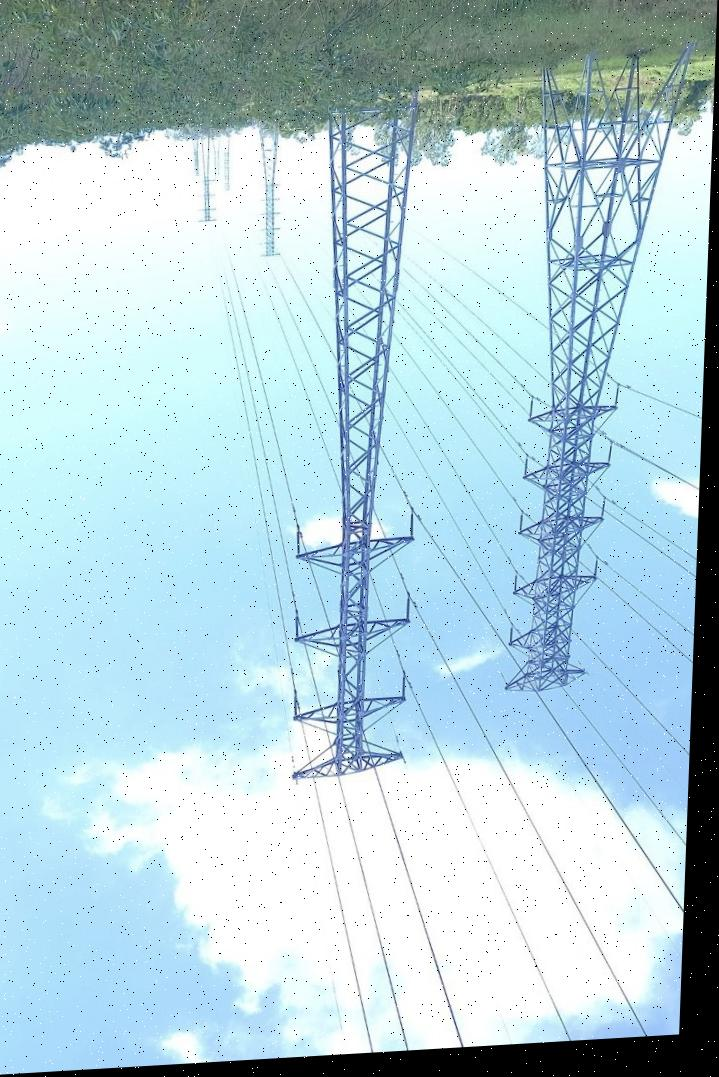tower: (511, 50, 683, 695), (293, 71, 443, 798)
